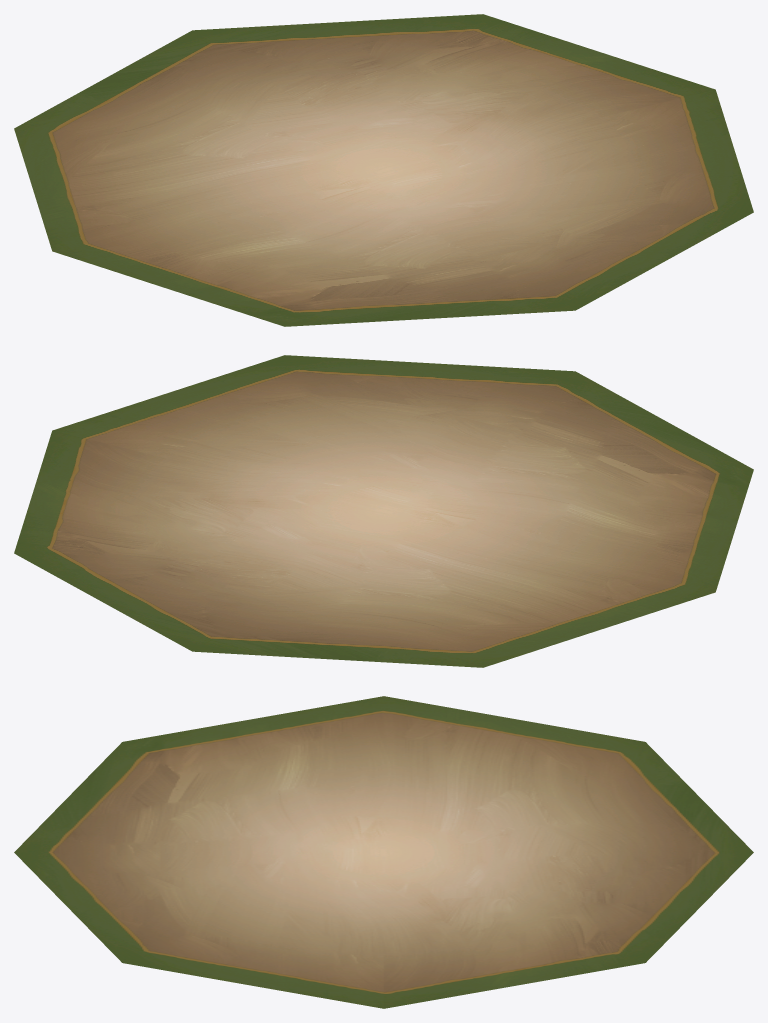
File: SM_Ring_Top.fbx
The picture shows the model from 3 angles, top to bottom: view 1: azimuth 30°, elevation 25°; view 2: azimuth 150°, elevation 25°; view 3: azimuth 270°, elevation 25°; orthographic projection. The views are drawn at different scales.
Parts seen in each view (by area): view 1: SM_Ring_Top; view 2: SM_Ring_Top; view 3: SM_Ring_Top.
Boxes of the visible parts, x1,y1,x2,y2 form: SM_Ring_Top: (14,14,753,326); SM_Ring_Top: (14,355,753,667); SM_Ring_Top: (14,696,753,1008).
Size of the model in its own units: 4007 by 0.000653 by 4007.
